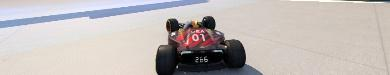Car: (154, 15, 246, 74)
